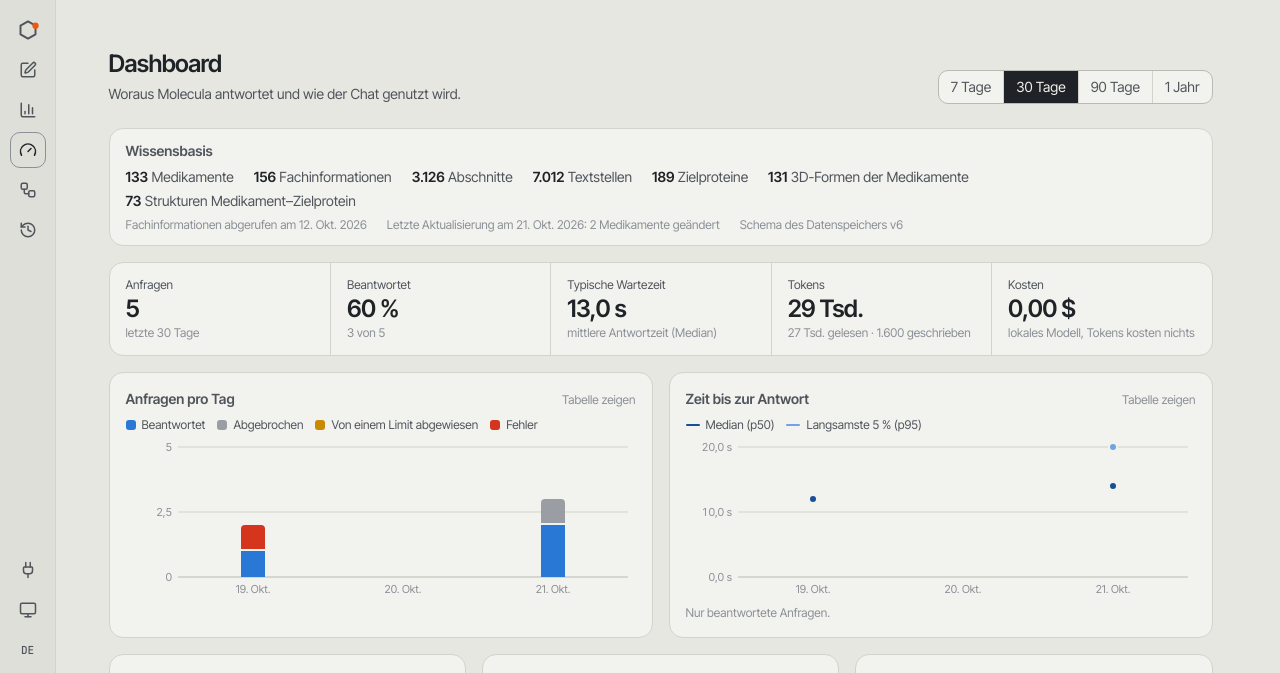
Scenario: Dashboard page › writes its text, numbers and dates in German
Expected: the heading "Dashboard" is shown, [108,49,222,78]
Expected: the element "Wissensbasis" shows "7.012 Textstellen", [108,128,1212,246]
Click the button "Tabelle zeigen" in the row of "Anfragen pro Tag".
click(599, 400)  # box [562,392,636,408]
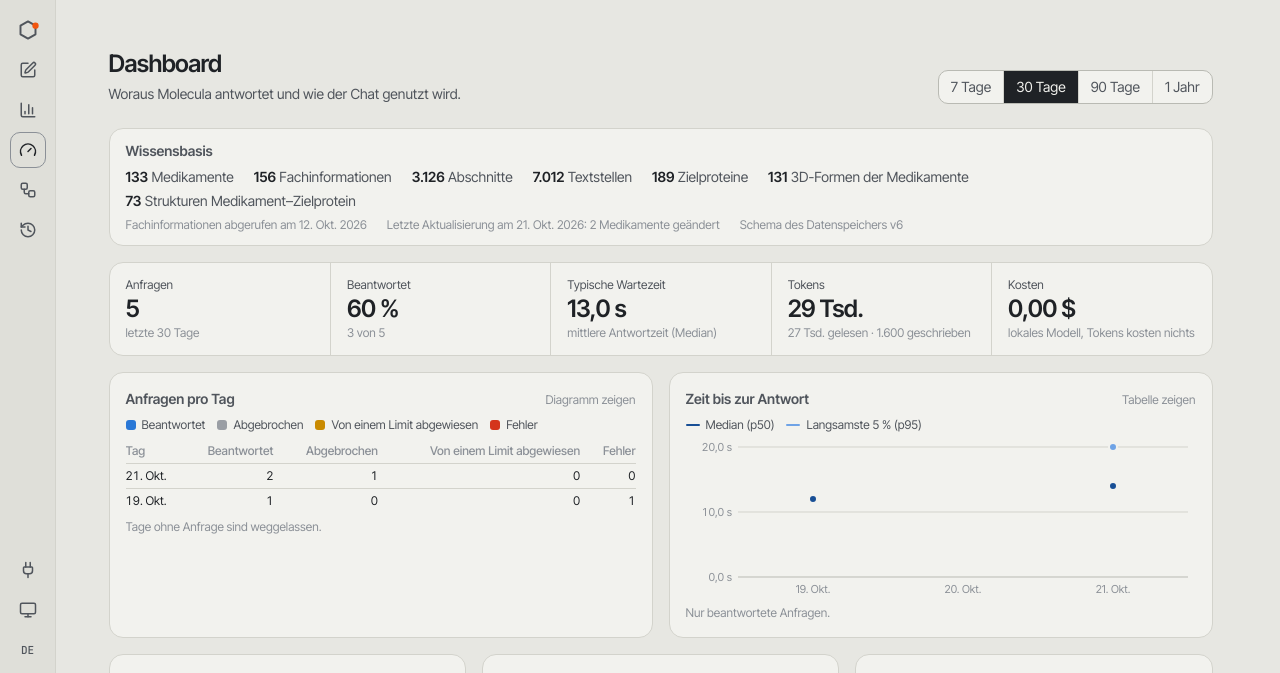
Expected: the button "7 Tage" is shown, [939,71,1003,103]
Result: the row "21. Okt. 2 1 0 0" is shown at [126,464,636,488]
